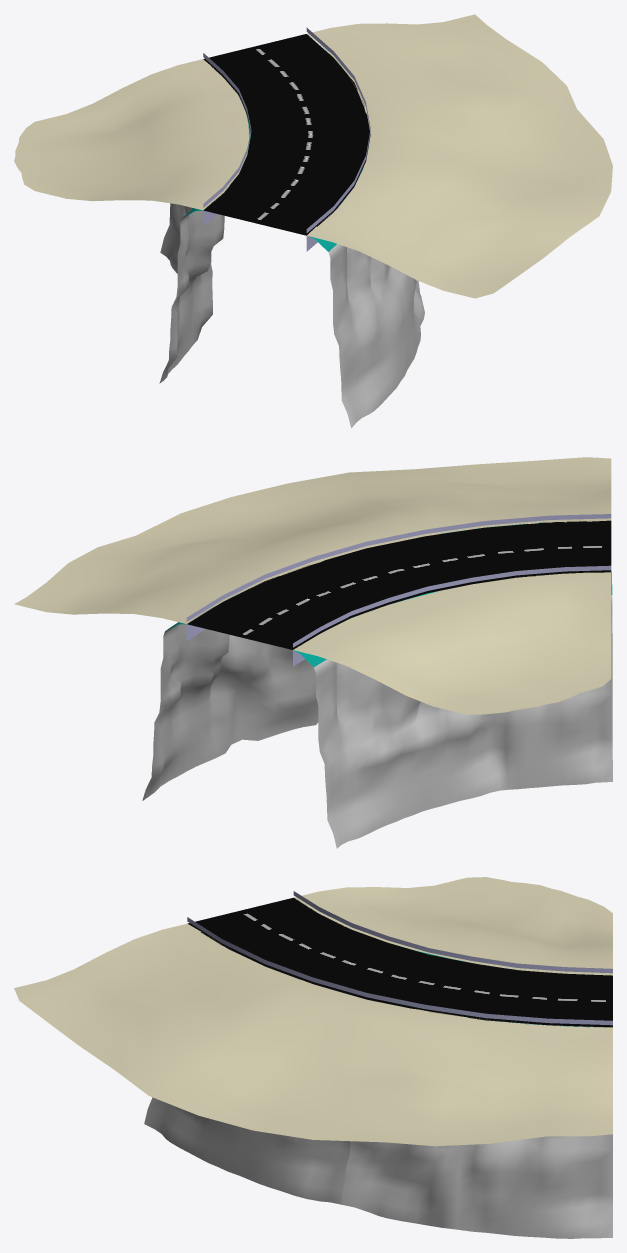
3 views of the same model, one above another, from view 1: azimuth 30°, elevation 25°; view 2: azimuth 150°, elevation 25°; view 3: azimuth 270°, elevation 25° (orthographic). The views are drawn at different scales.
Parts seen in each view (by area): view 1: sand_2, sand_1, Mesh, cliff_2, cliff_1, guardRail_2; view 2: sand_2, cliff_1, sand_1, Mesh, cliff_2, guardRail_2, guardRail_1; view 3: sand_2, cliff_2, Mesh, sand_1, guardRail_2, guardRail_1.
Boxes of the visible parts, <box> form: sand_2: <box>307,14,612,298</box>; sand_1: <box>14,59,249,210</box>; Mesh: <box>203,34,370,235</box>; cliff_2: <box>309,43,424,427</box>; cliff_1: <box>159,89,250,383</box>; guardRail_2: <box>306,27,370,232</box>; sand_2: <box>14,457,611,623</box>; cliff_1: <box>293,572,612,848</box>; sand_1: <box>293,572,611,714</box>; Mesh: <box>187,520,611,649</box>; cliff_2: <box>142,522,542,800</box>; guardRail_2: <box>186,514,611,621</box>; guardRail_1: <box>293,565,611,647</box>; sand_2: <box>14,923,612,1146</box>; cliff_2: <box>144,1021,612,1238</box>; Mesh: <box>187,897,612,1027</box>; sand_1: <box>294,877,612,975</box>; guardRail_2: <box>187,917,612,1025</box>; guardRail_1: <box>293,891,612,973</box>.
Size of the model in its own units: 50.24 by 17.56 by 48.74.
